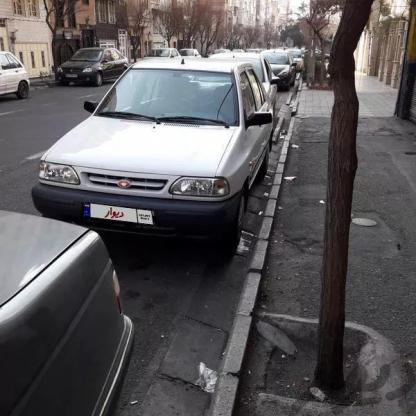Car: (28, 61, 276, 256), (1, 198, 128, 387), (228, 51, 284, 125), (58, 42, 126, 88), (0, 45, 31, 104), (262, 46, 294, 93), (137, 46, 179, 62), (286, 47, 306, 77), (301, 48, 331, 65), (180, 47, 204, 60)
